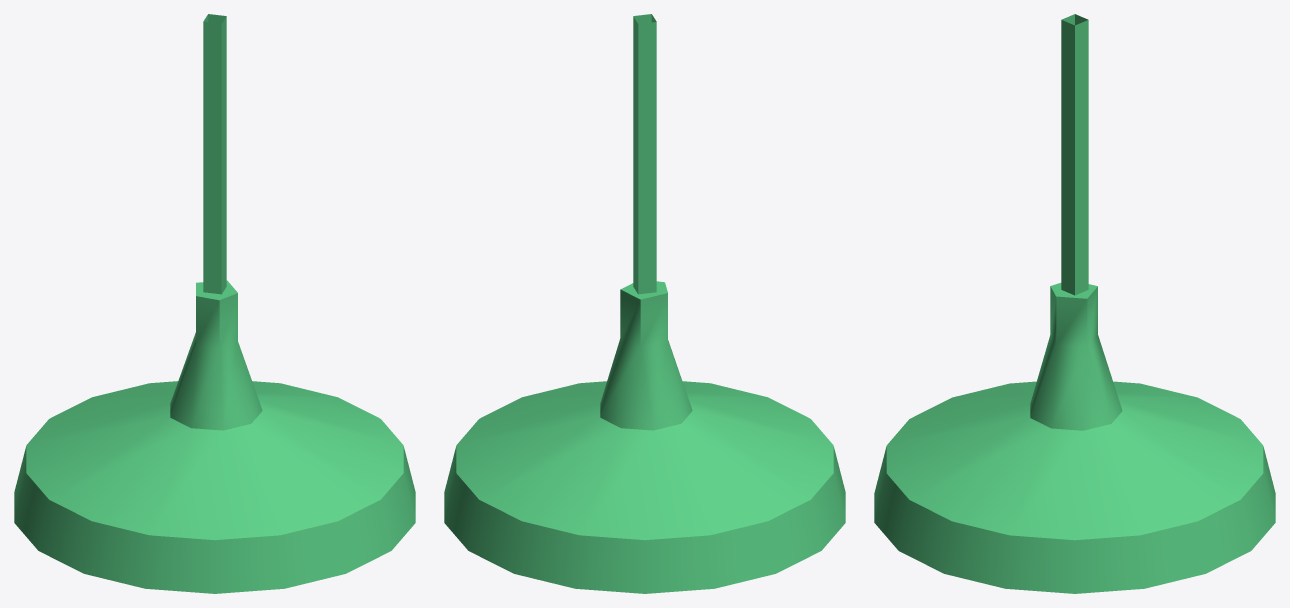
File: Lamp_Int2.fbx
3 renders of one model, left to right at view 1: azimuth 30°, elevation 25°; view 2: azimuth 150°, elevation 25°; view 3: azimuth 270°, elevation 25°, orthographic.
Visible parts, largest first — view 1: Lamp_Int2; view 2: Lamp_Int2; view 3: Lamp_Int2.
Boxes of the visible parts, x1,y1,x2,y2 form: Lamp_Int2: [14, 14, 415, 593]; Lamp_Int2: [444, 14, 845, 593]; Lamp_Int2: [874, 14, 1275, 593].
Size of the model in its own units: 74.17 by 98.09 by 73.04.
